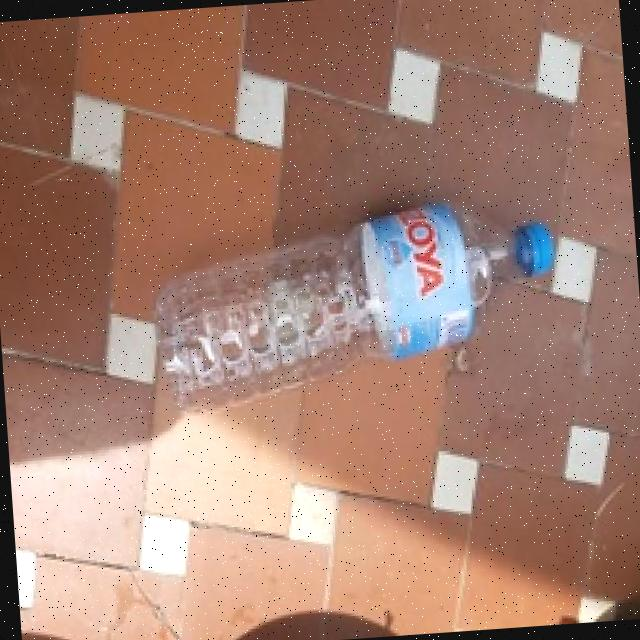bottle: (142, 188, 572, 420)
cap: (512, 218, 559, 276)
label: (360, 200, 482, 366)
